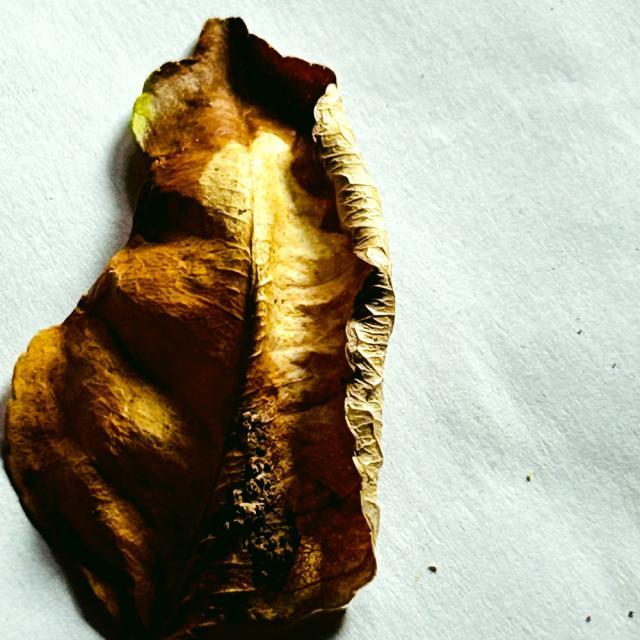DryLeaf_Lemon: (5, 18, 394, 639)
